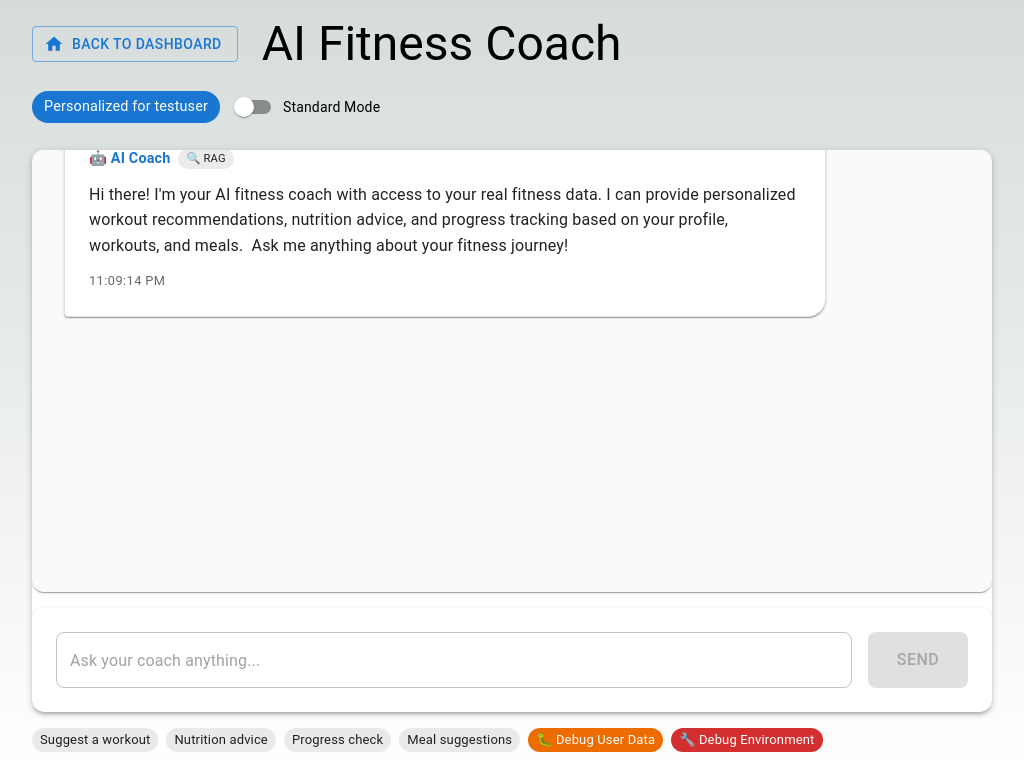
Test case: ChatPage › enables send button when input has text
This screenshot has width=1024, height=768.
(page scrolled)
Type "Hello" into the text box with placeholder "Ask your coach anything..." at [454, 660], box [70,648,838,672]
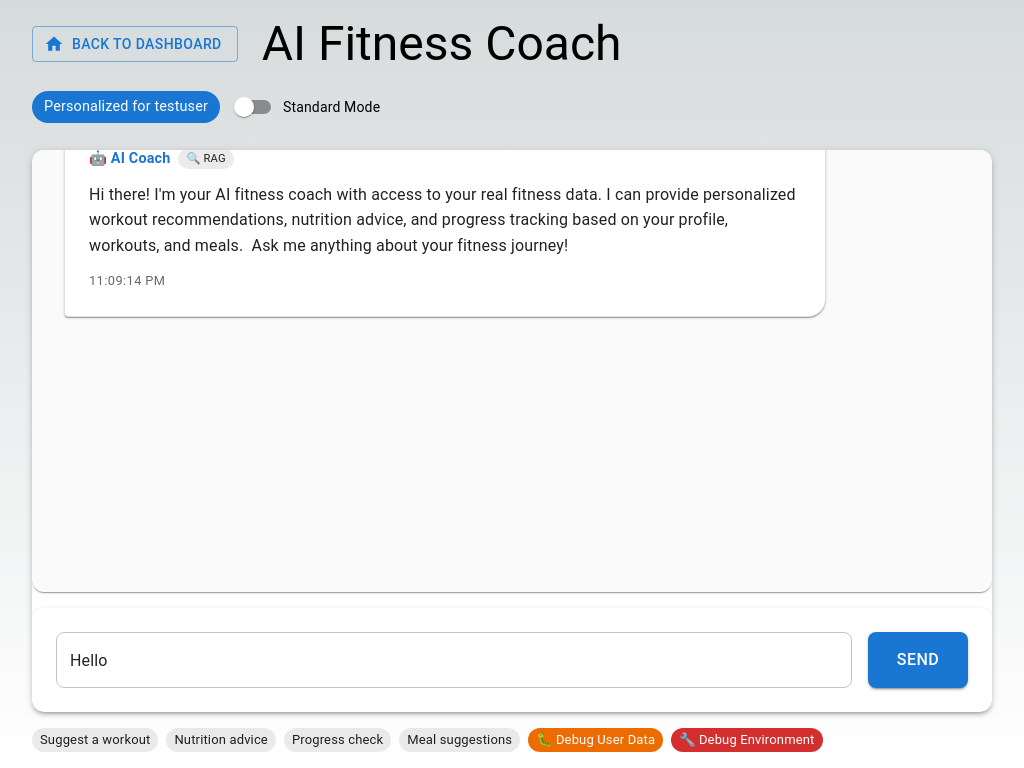
Expected: the button "Send" is enabled, [868,632,968,688]
